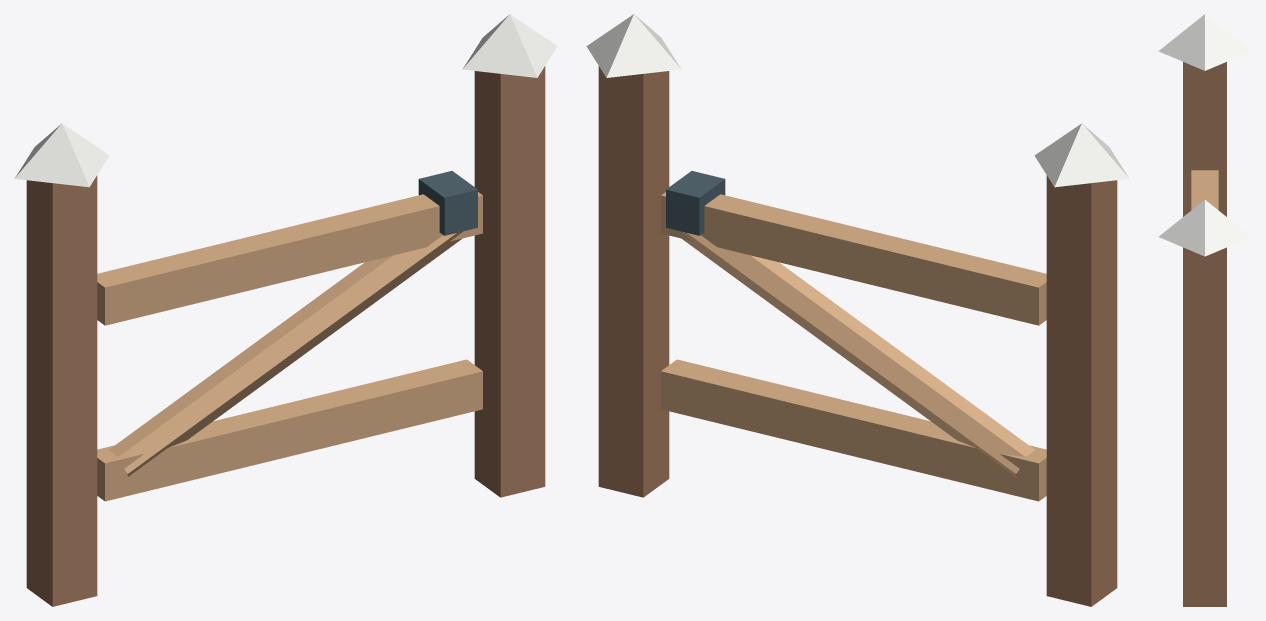
File: winter-hearth-village-cottage-garden-gate-5eb2a952__21837.glb
3 renders of one model, left to right at view 1: azimuth 30°, elevation 25°; view 2: azimuth 150°, elevation 25°; view 3: azimuth 270°, elevation 25°, orthographic. The views are drawn at different scales.
Parts seen in each view (by area): view 1: cottage-garden-gate-wood, cottage-garden-gate-cedar, cottage-garden-gate-snow, cottage-garden-gate-iron; view 2: cottage-garden-gate-wood, cottage-garden-gate-cedar, cottage-garden-gate-snow, cottage-garden-gate-iron; view 3: cottage-garden-gate-wood, cottage-garden-gate-snow, cottage-garden-gate-cedar.
Boxes of the visible parts, x1,y1,x2,y2 form: cottage-garden-gate-wood: (26, 66, 545, 606); cottage-garden-gate-cedar: (97, 192, 482, 501); cottage-garden-gate-snow: (14, 14, 557, 187); cottage-garden-gate-iron: (418, 171, 477, 235); cottage-garden-gate-wood: (598, 66, 1117, 606); cottage-garden-gate-cedar: (661, 192, 1046, 501); cottage-garden-gate-snow: (586, 14, 1129, 187); cottage-garden-gate-iron: (666, 171, 725, 235); cottage-garden-gate-wood: (1183, 62, 1226, 606); cottage-garden-gate-snow: (1158, 14, 1251, 256); cottage-garden-gate-cedar: (1191, 170, 1218, 209).
Bounding box in the file's own units: 1.94 × 1.6 × 0.3401.
